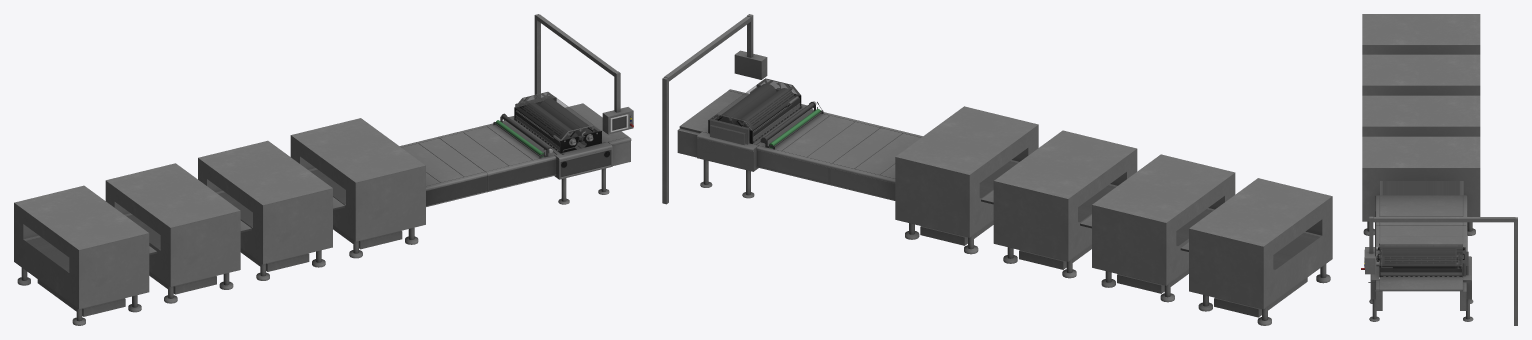
Rendered from laminadora.fbx.
3 views of the same model, side by side, from view 1: azimuth 30°, elevation 25°; view 2: azimuth 150°, elevation 25°; view 3: azimuth 270°, elevation 25° (orthographic). The views are drawn at different scales.
Parts seen in each view (by area): view 1: polySurface690, polySurface601, polySurface670, polySurface680, polySurface41 (×2), polySurface623, polySurface597, polySurface596, polySurface646, polySurface622, polySurface595, polySurface599 (+12 smaller); view 2: polySurface690, polySurface670, polySurface601, polySurface680, polySurface41 (×2), polySurface608, polySurface597, polySurface596, polySurface651, polySurface605, polySurface595, polySurface599 (+13 smaller); view 3: polySurface601, polySurface670, polySurface680, polySurface690, polySurface43 (×2), polySurface649, polySurface41 (×2), polySurface590, polySurface598, polySurface599, polySurface597, polySurface596 (+16 smaller).
Boxes of the visible parts, left/top/right/bottom form: polySurface690: left=14, top=185, right=149, bottom=309; polySurface601: left=290, top=118, right=425, bottom=241; polySurface670: left=198, top=140, right=332, bottom=264; polySurface680: left=105, top=163, right=240, bottom=286; polySurface41 (×2): left=523, top=92, right=592, bottom=131; polySurface623: left=487, top=159, right=556, bottom=191; polySurface597: left=440, top=132, right=508, bottom=171; polySurface596: left=463, top=127, right=532, bottom=165; polySurface646: left=554, top=148, right=612, bottom=179; polySurface622: left=426, top=176, right=487, bottom=206; polySurface595: left=419, top=138, right=484, bottom=176; polySurface599: left=402, top=143, right=463, bottom=182; polySurface690: left=1189, top=178, right=1332, bottom=309; polySurface670: left=993, top=130, right=1137, bottom=261; polySurface601: left=895, top=106, right=1038, bottom=237; polySurface680: left=1092, top=154, right=1235, bottom=285; polySurface41 (×2): left=717, top=78, right=791, bottom=120; polySurface608: left=756, top=150, right=829, bottom=184; polySurface597: left=807, top=122, right=879, bottom=163; polySurface596: left=782, top=115, right=854, bottom=157; polySurface651: left=697, top=138, right=758, bottom=171; polySurface605: left=829, top=168, right=895, bottom=200; polySurface595: left=832, top=128, right=902, bottom=168; polySurface599: left=855, top=133, right=920, bottom=174; polySurface601: left=1362, top=136, right=1480, bottom=221; polySurface670: left=1362, top=95, right=1480, bottom=136; polySurface680: left=1362, top=54, right=1480, bottom=95; polySurface690: left=1362, top=14, right=1480, bottom=54; polySurface43 (×2): left=1380, top=244, right=1462, bottom=266; polySurface649: left=1379, top=279, right=1462, bottom=291; polySurface41 (×2): left=1380, top=244, right=1462, bottom=255; polySurface590: left=1382, top=256, right=1455, bottom=268; polySurface598: left=1379, top=195, right=1462, bottom=205; polySurface599: left=1379, top=206, right=1462, bottom=216; polySurface597: left=1379, top=226, right=1462, bottom=236; polySurface596: left=1379, top=236, right=1462, bottom=246.
Size of the model in its own units: 227 by 45.86 by 60.59.
